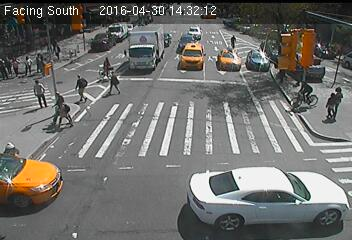neg: (293, 74, 318, 108), (48, 154, 70, 182), (149, 79, 170, 107), (300, 124, 321, 151), (271, 165, 291, 191), (95, 180, 113, 205), (191, 43, 209, 67), (151, 186, 169, 210), (233, 168, 250, 192), (190, 172, 207, 195), (280, 27, 297, 49), (158, 139, 174, 161), (258, 54, 274, 75), (316, 44, 332, 64), (151, 36, 166, 56), (228, 92, 243, 112), (115, 147, 129, 166), (98, 24, 110, 41), (189, 110, 201, 125), (111, 115, 122, 131), (187, 19, 198, 33)
pos: (27, 78, 51, 110), (72, 73, 94, 102), (53, 102, 73, 129), (323, 93, 343, 119), (106, 72, 123, 95), (100, 56, 116, 78), (8, 55, 23, 75), (20, 54, 35, 74), (49, 38, 63, 57), (33, 51, 47, 69), (226, 32, 239, 49)
